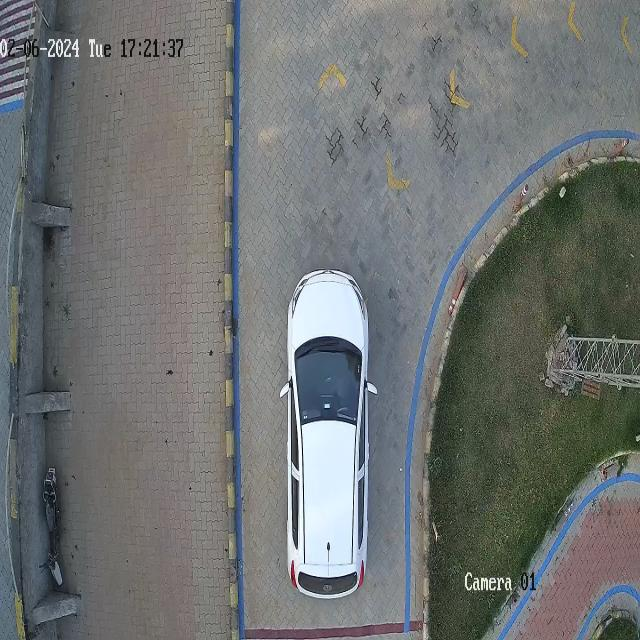car: (281, 271, 376, 599)
